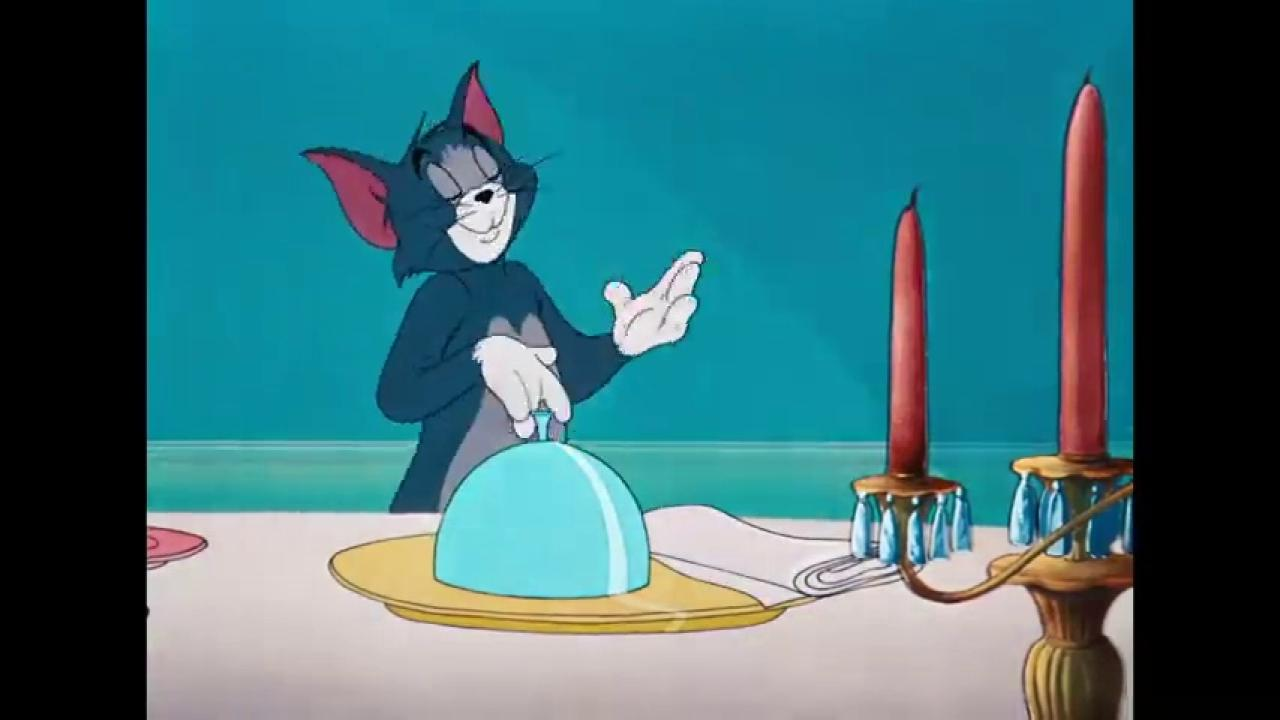Tom: (297, 58, 708, 515)
